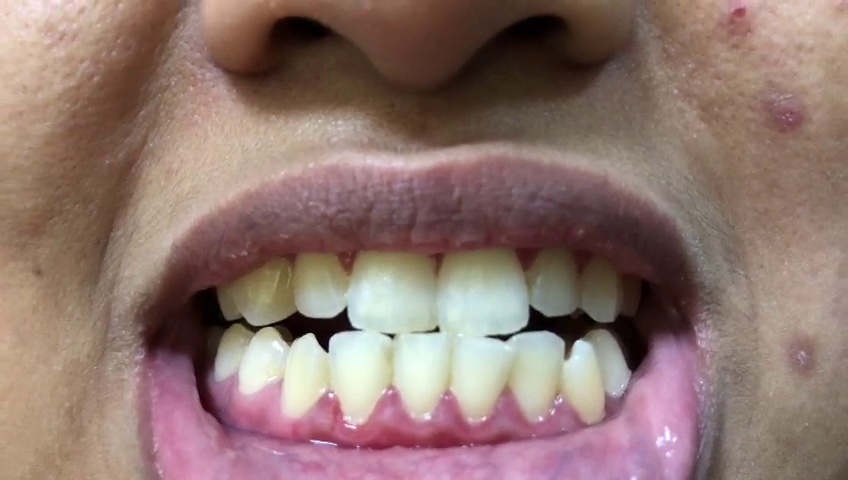1st Premolar: (238, 326, 286, 398), (590, 327, 630, 399)
2nd Premolar: (214, 322, 250, 385)
Canine: (225, 248, 294, 325), (281, 332, 330, 421), (563, 339, 604, 426), (584, 250, 624, 322)
Central Incisor: (438, 231, 531, 334), (347, 240, 437, 332), (451, 331, 510, 426), (396, 330, 450, 421)
Lateral Incisor: (328, 331, 396, 428), (510, 331, 564, 427), (293, 238, 349, 319), (528, 244, 581, 318)
